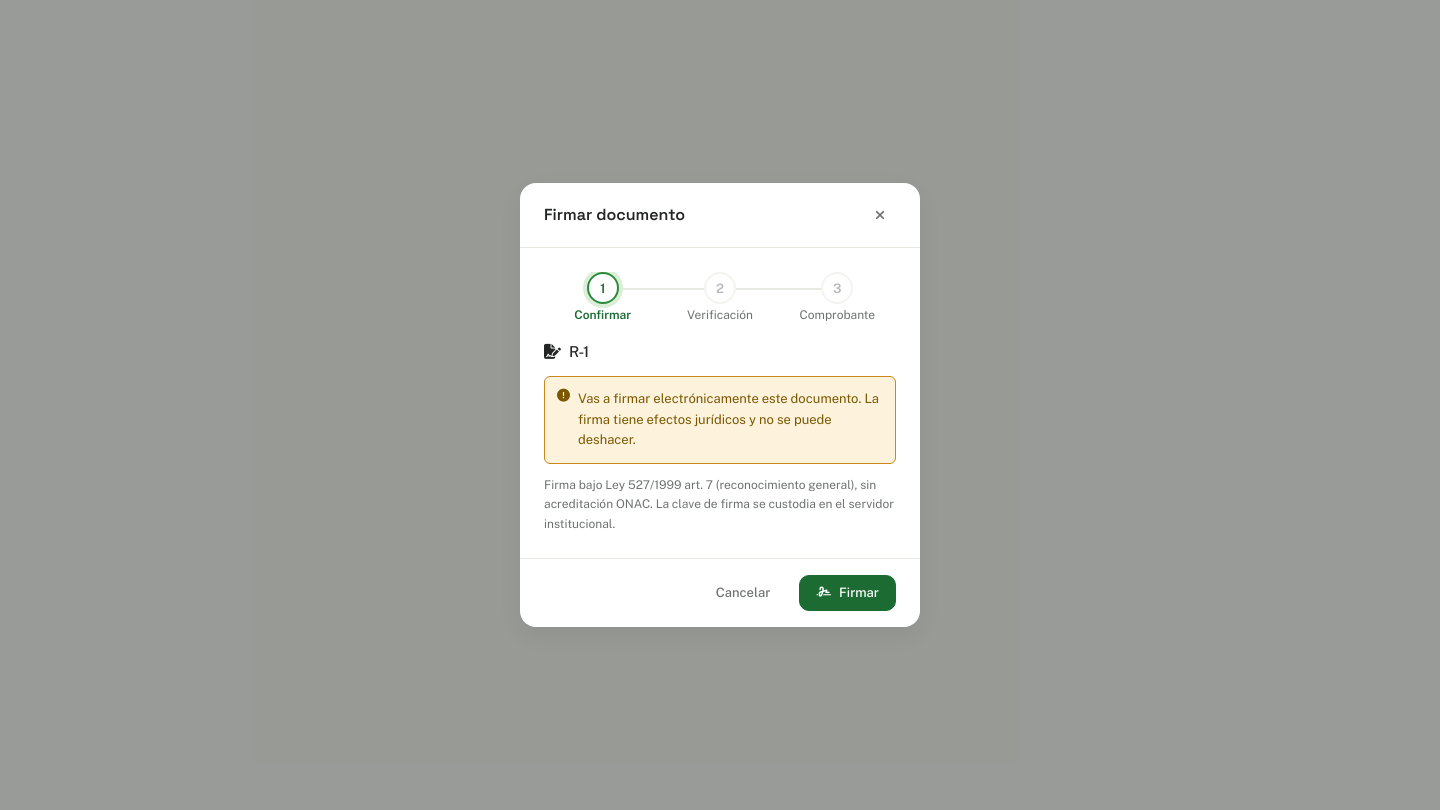
it: SignAssistant — 2fa_requerido con app autenticadora activa › con credencial personal (totp_requerido) NO ofrece el correo: ahí no lo admite el backend
The width and height of the screenshot is (1440, 810).
What coordinates should you click on to do the following:
click the 2nd button named "Firmar"
I would click on:
 (848, 593)
Its box is [799,575,896,611].
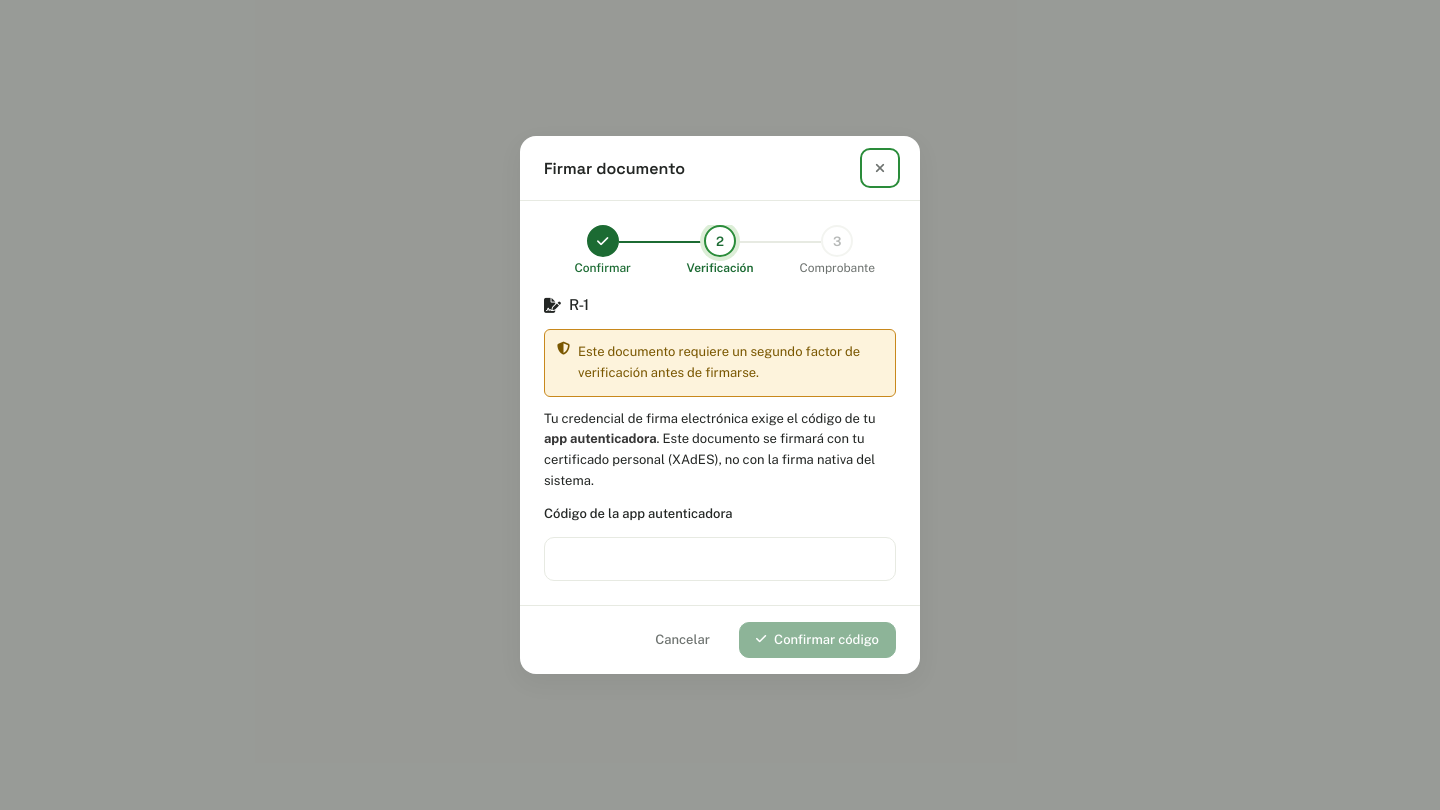
Expected: the field labelled "Código de la app autenticadora" is shown, [544,537,896,581]
